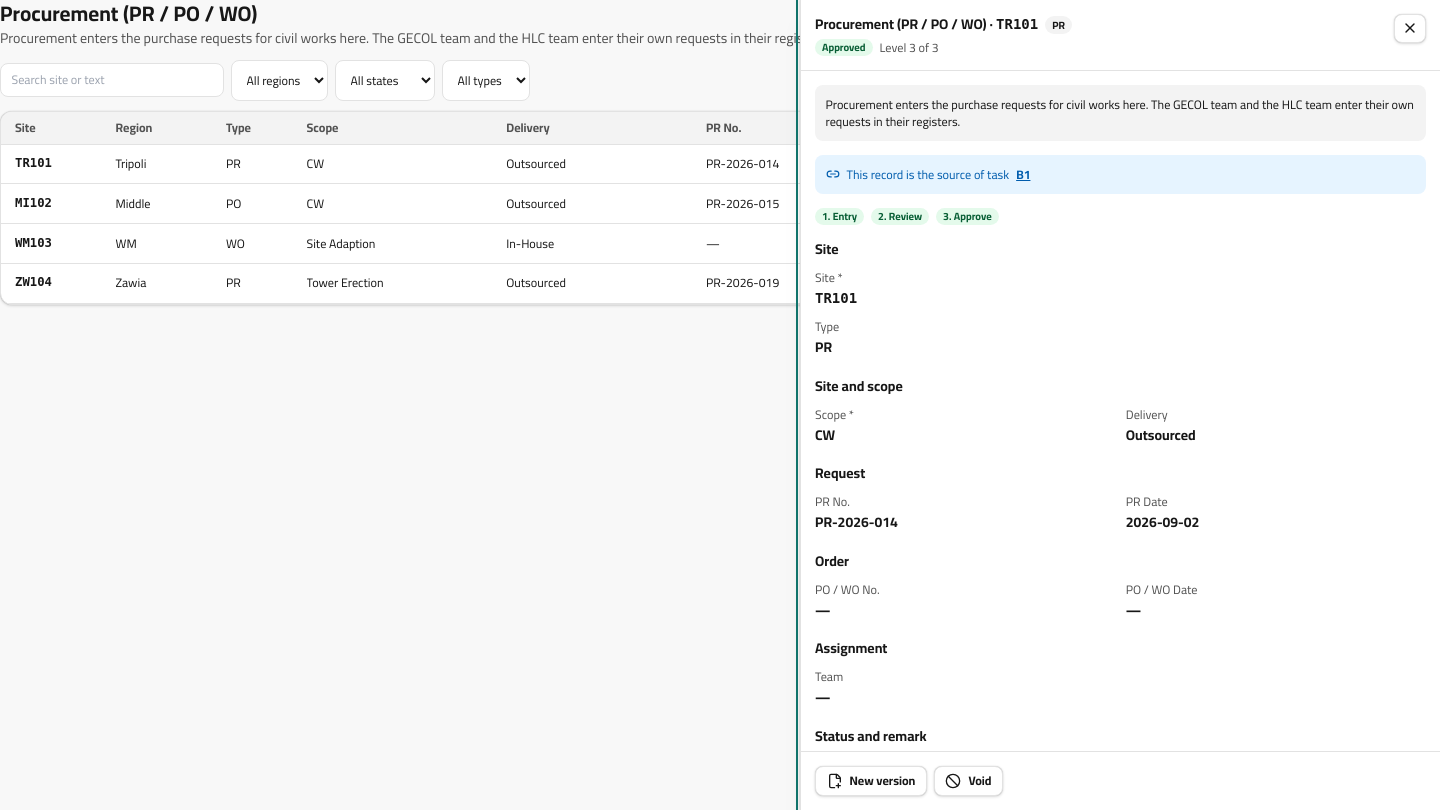
Test: register drawer with the real record shape › creates a new version of an approved record (versions endpoints) and lists them newest first
Click the button with test id "reg-new-version": {"x": 871, "y": 781} [815, 766, 927, 796]
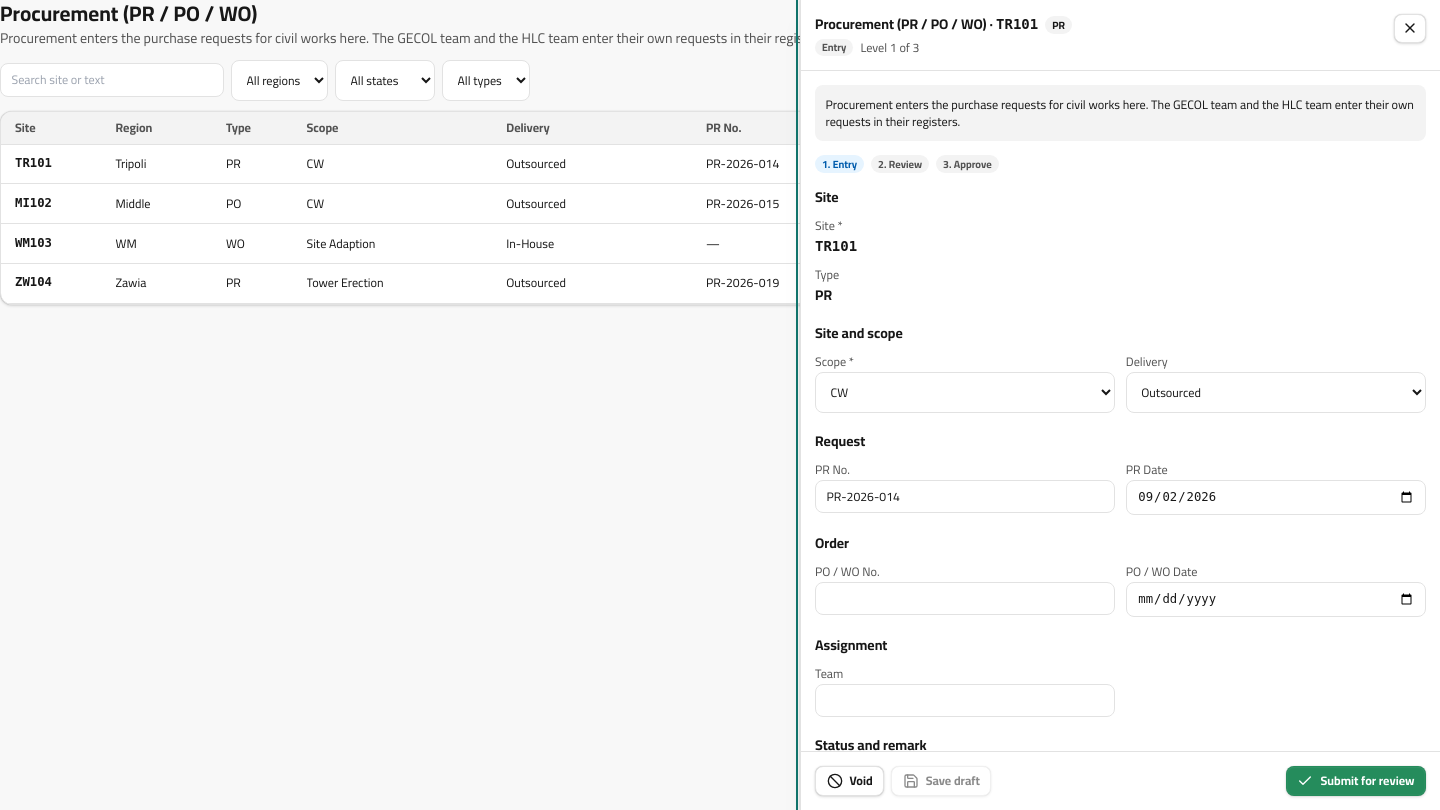
Expected: the text with test id "reg-state" reads "Entry", [822, 37, 846, 57]
